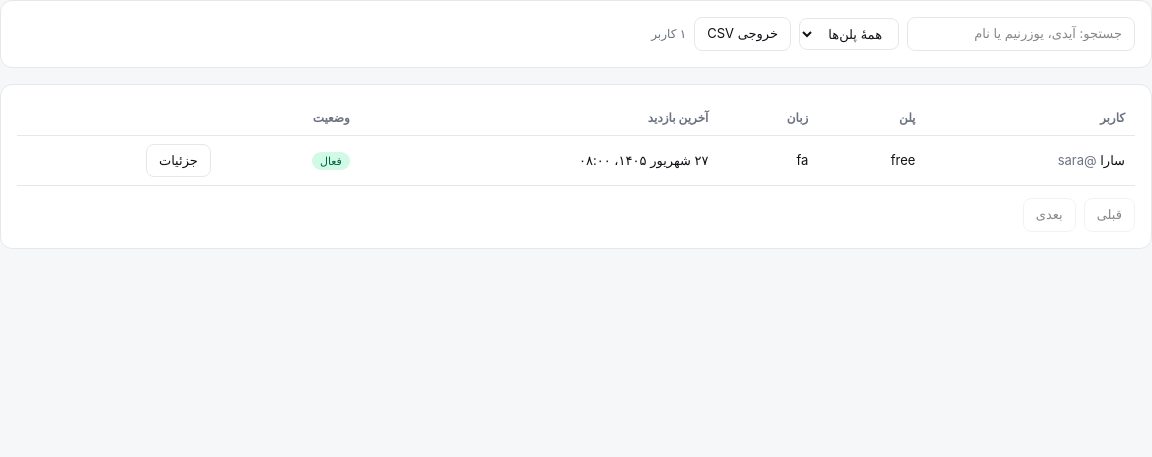
Scenario: users › hides the edit controls from an admin without the permission
Click the button "جزئیات": (178, 160) [146,144,211,177]
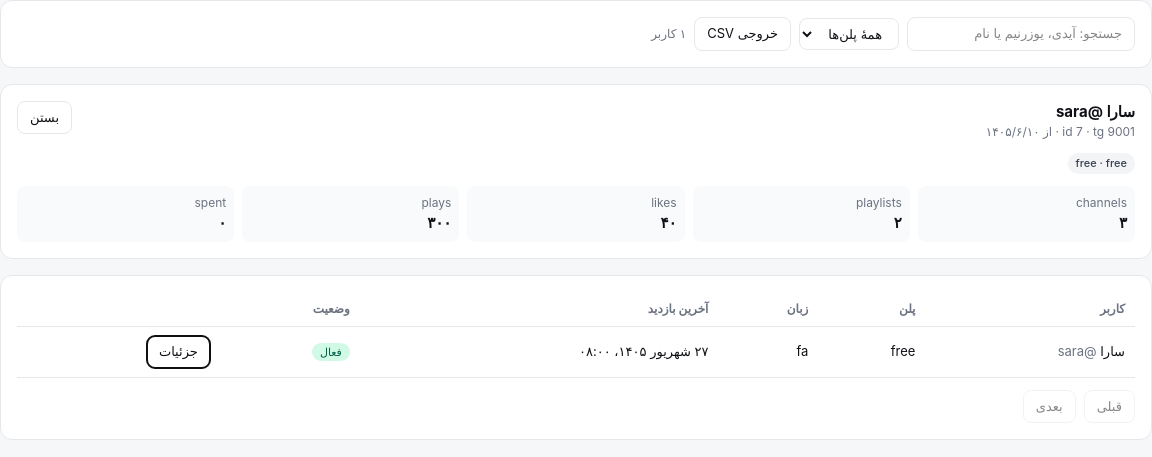
Check: the text "id 7 · tg 9001 · از ۱۴۰۵/۶/۱۰" is shown, box [986,123,1135,141]
